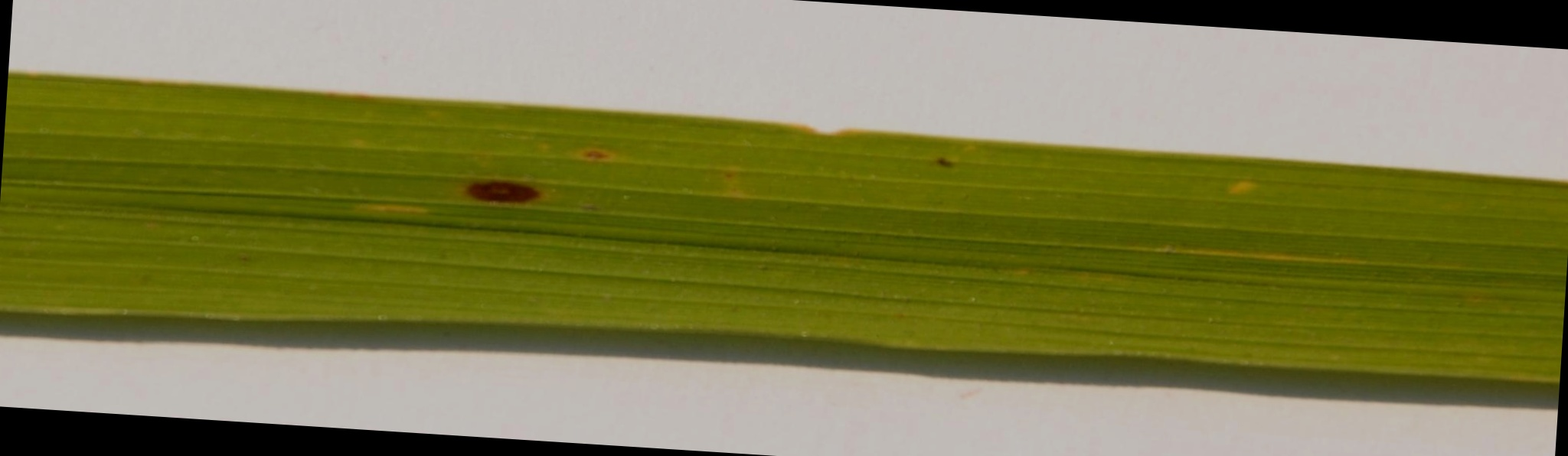Bacterial_Leaf_Blight: (436, 150, 557, 216)
